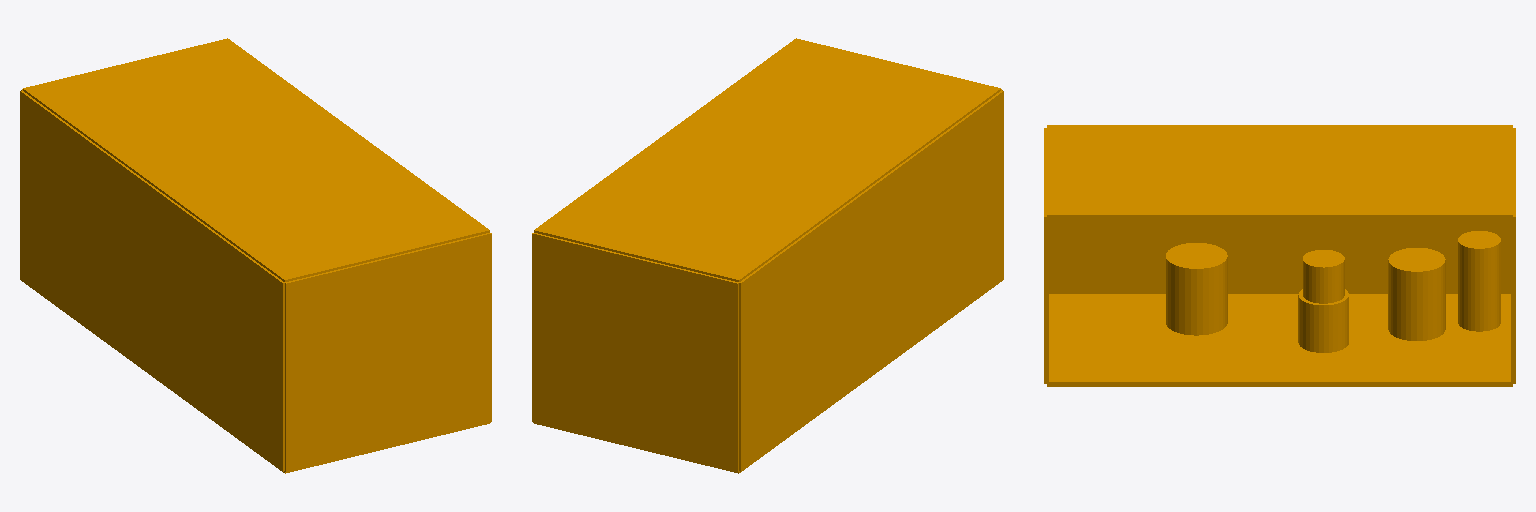
URDF robot description (syn_can_cabinet_948):
<?xml version="1.0" ?>
<robot name="syn_can_cabinet_948">
    <link concave="yes" name="base_link">
        <inertial>
            <origin rpy="0 0 0" xyz="0 0 0"/>
            <mass value="0.0"/>
            <inertia ixx="1e-08" ixy="0" ixz="0" iyy="1e-08" iyz="0" izz="1e-08"/>
        </inertial>
        <visual>
            <origin xyz="0 0 0" rpy="0 0 0" />
            <geometry>
                <mesh filename="syn_can_cabinet_948.obj" scale="1.000000 1.000000 1.000000"/>
            </geometry>         
        </visual>

        <collision concave="yes">
            <origin xyz="0 0 0" rpy="0 0 0"/>
            <geometry>
                <mesh filename="syn_can_cabinet_948.obj" scale="1.000000 1.000000 1.000000"/>
            </geometry>
        </collision>
    </link>
</robot>
    

--- Render facts (derived) ---
The picture shows the robot from 3 angles, left to right: view 1: azimuth 30°, elevation 25°; view 2: azimuth 150°, elevation 25°; view 3: azimuth 270°, elevation 25°; orthographic projection.
Robot: syn_can_cabinet_948 — 1 links, 0 joints (none); root link base_link; default pose: every joint at zero.
Links seen in each view (by area): view 1: base_link; view 2: base_link; view 3: base_link.
Link boxes in pixels (box(x1,y1,x2,y2)): base_link: box(20, 38, 491, 473); base_link: box(532, 38, 1003, 473); base_link: box(1044, 125, 1515, 386).
Size in the robot's own frame: 0.2157 by 0.4768 by 0.1921 metres.
1 mesh visuals loaded from 1 distinct referenced files (1 OBJ).
